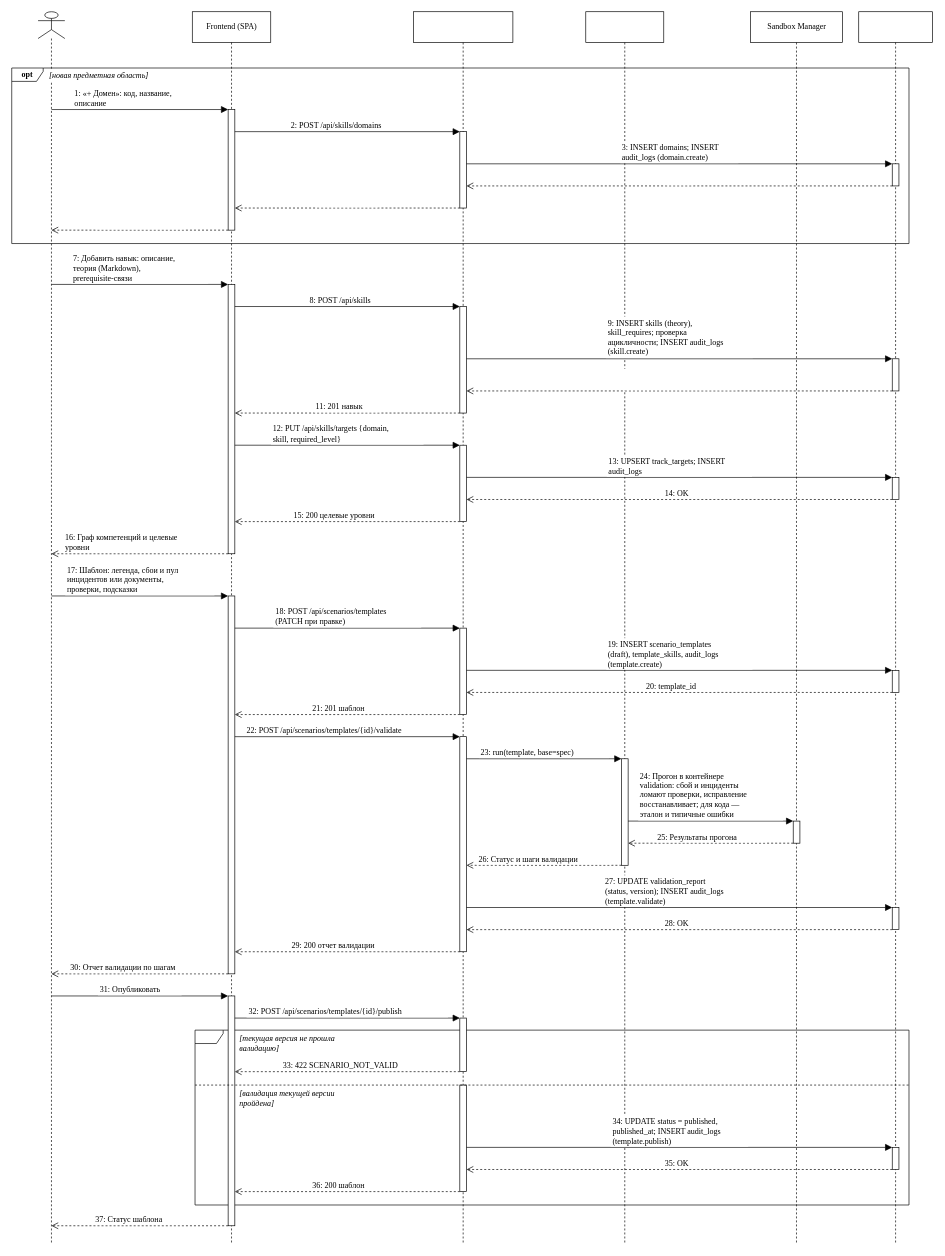
The diagram is 945 pixels wide and 1256 high, and some of its shapes have lost their labels. The shapes that lost their labels are listed below. From the top down, each one's box as (x1, y1, x2, y2) in pixels, then its label:
(665, 174, 693, 185): 4: OK
(316, 196, 378, 207): 5: 201 домен
(95, 218, 184, 229): 6: Домен добавлен
(622, 368, 736, 390): 10: skill_id или цикл (422 VALIDATION_ERROR)
(37, 11, 65, 1245): Методист
(413, 11, 513, 1245): Backend: /api/skills, /api/scenarios
(585, 11, 664, 1245): ScenarioAgent
(858, 11, 932, 1245): PostgreSQL
(194, 1029, 909, 1205): alt
